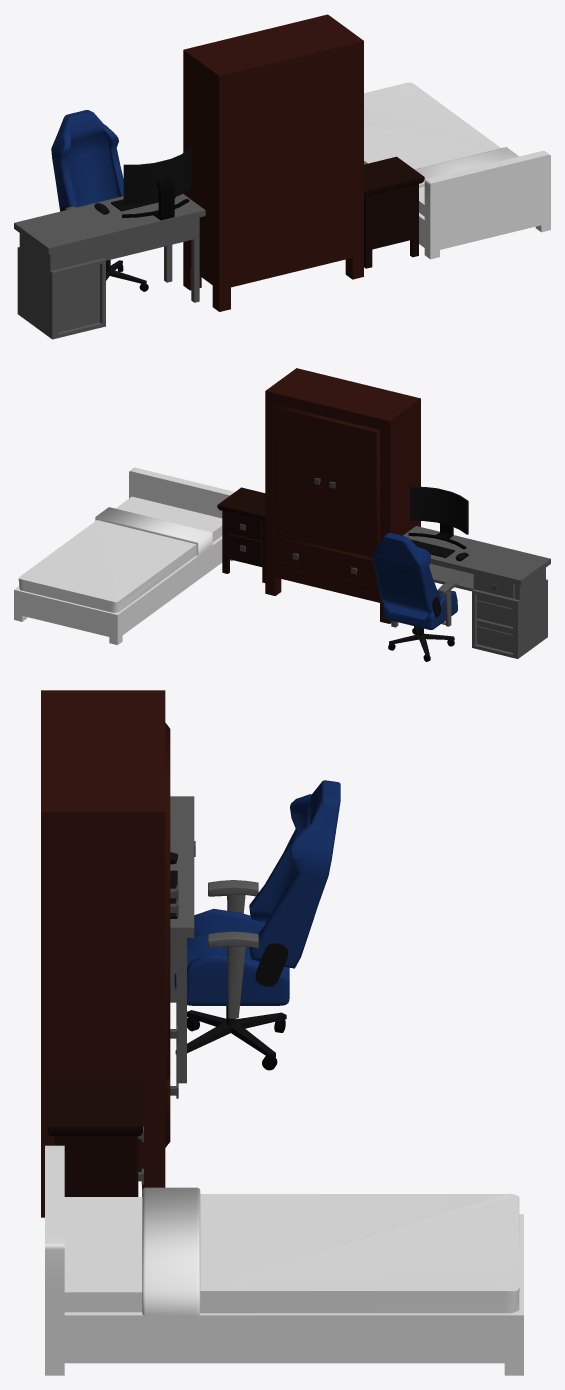
Rendered from all.FBX.
3 renders of one model, top to bottom at view 1: azimuth 30°, elevation 25°; view 2: azimuth 150°, elevation 25°; view 3: azimuth 270°, elevation 25°, orthographic. The views are drawn at different scales.
Parts seen in each view (by area): view 1: Box004, Box005, Box003, Box025, Box002, Box008, Box009; view 2: Box004, Box005, Box003, Box025, Box002, Box008, Box022, Box021, Box023, Box009; view 3: Box005, Box004, Box002, Box025, Box022, Box003, Box021, Box024, Box023, Box027.
Part boxes in pixels (x1,y1,x2,y2): Box004: (183,14,363,311); Box005: (364,82,550,259); Box003: (14,194,205,339); Box025: (51,110,123,211); Box002: (364,156,424,268); Box008: (123,148,191,204); Box009: (122,178,189,220); Box004: (265,368,420,623); Box005: (14,467,234,644); Box003: (391,526,550,658); Box025: (373,533,440,613); Box002: (217,487,265,582); Box008: (410,486,468,534); Box022: (383,591,457,629); Box021: (389,626,454,656); Box023: (437,580,457,626); Box009: (408,523,466,549); Box005: (45,1145,523,1375); Box004: (41,690,170,1217); Box002: (47,1076,142,1196); Box025: (249,780,340,968); Box022: (174,908,289,1005); Box003: (170,796,194,1083); Box021: (175,1010,286,1058); Box024: (208,931,258,1018); Box023: (208,880,258,913); Box027: (255,942,288,986).
Bounding box in the file's own units: 161 × 73.64 × 79.43.
